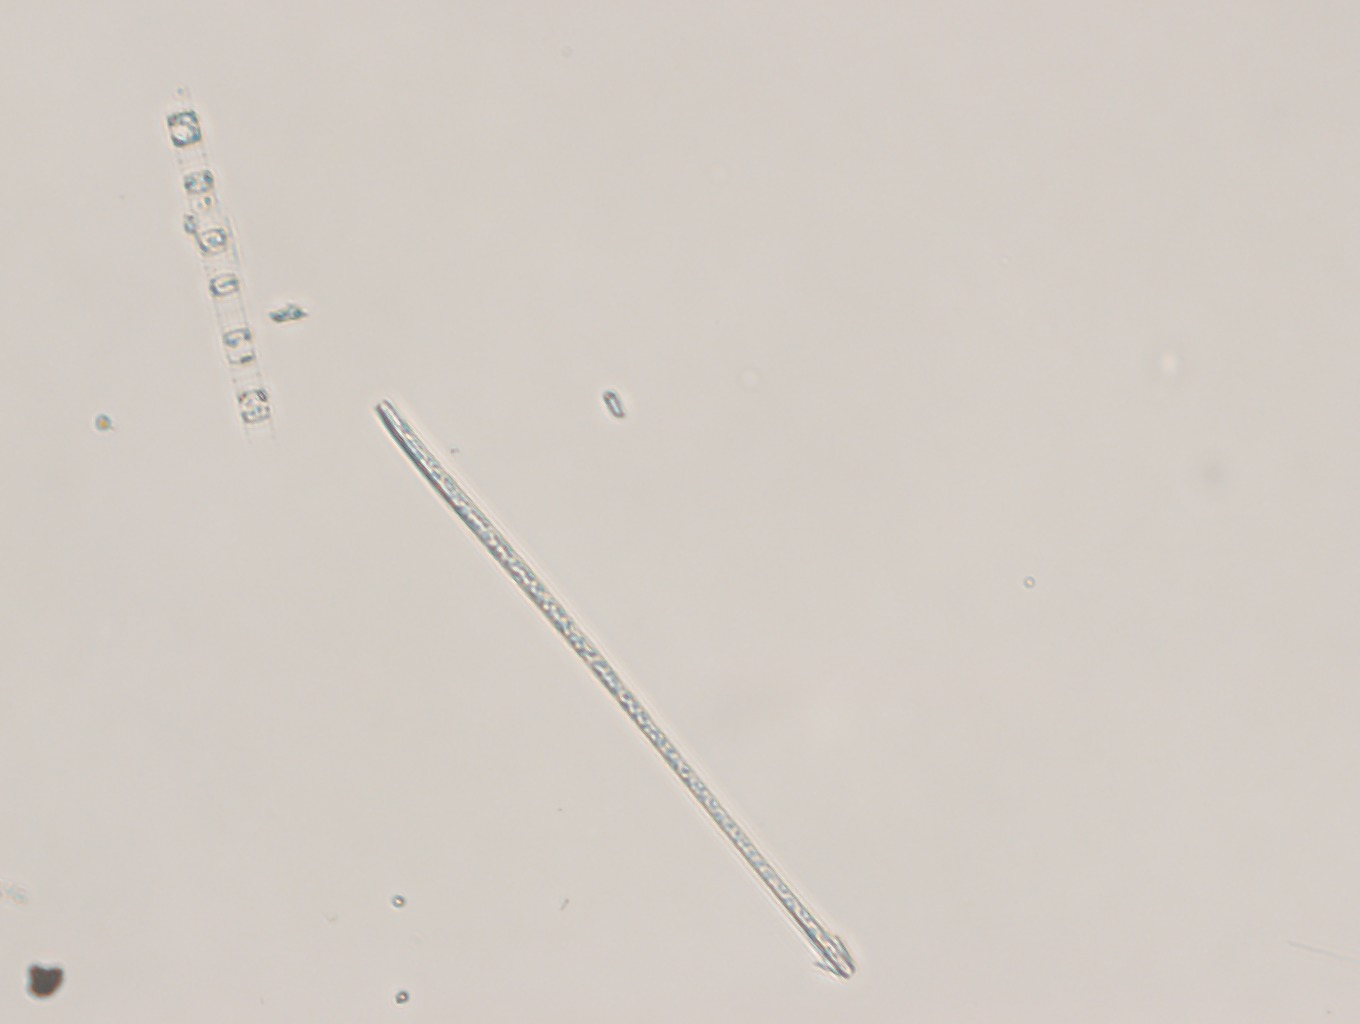skeletonema: (151, 85, 280, 433)
